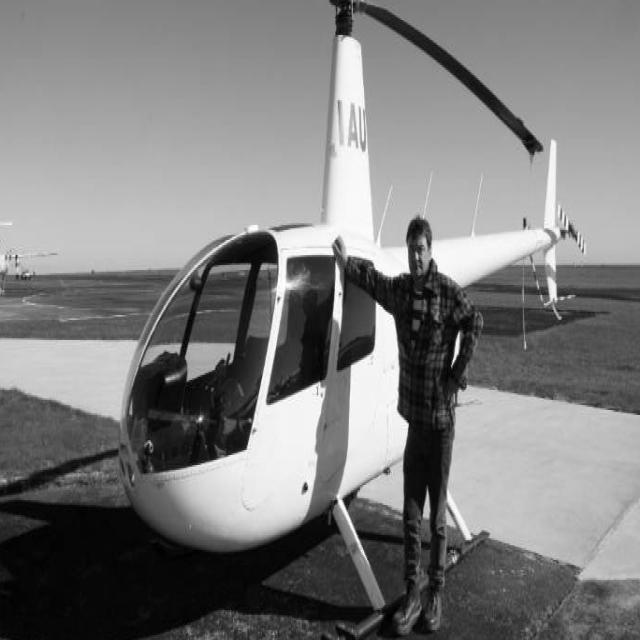helicopter: (114, 1, 588, 613)
